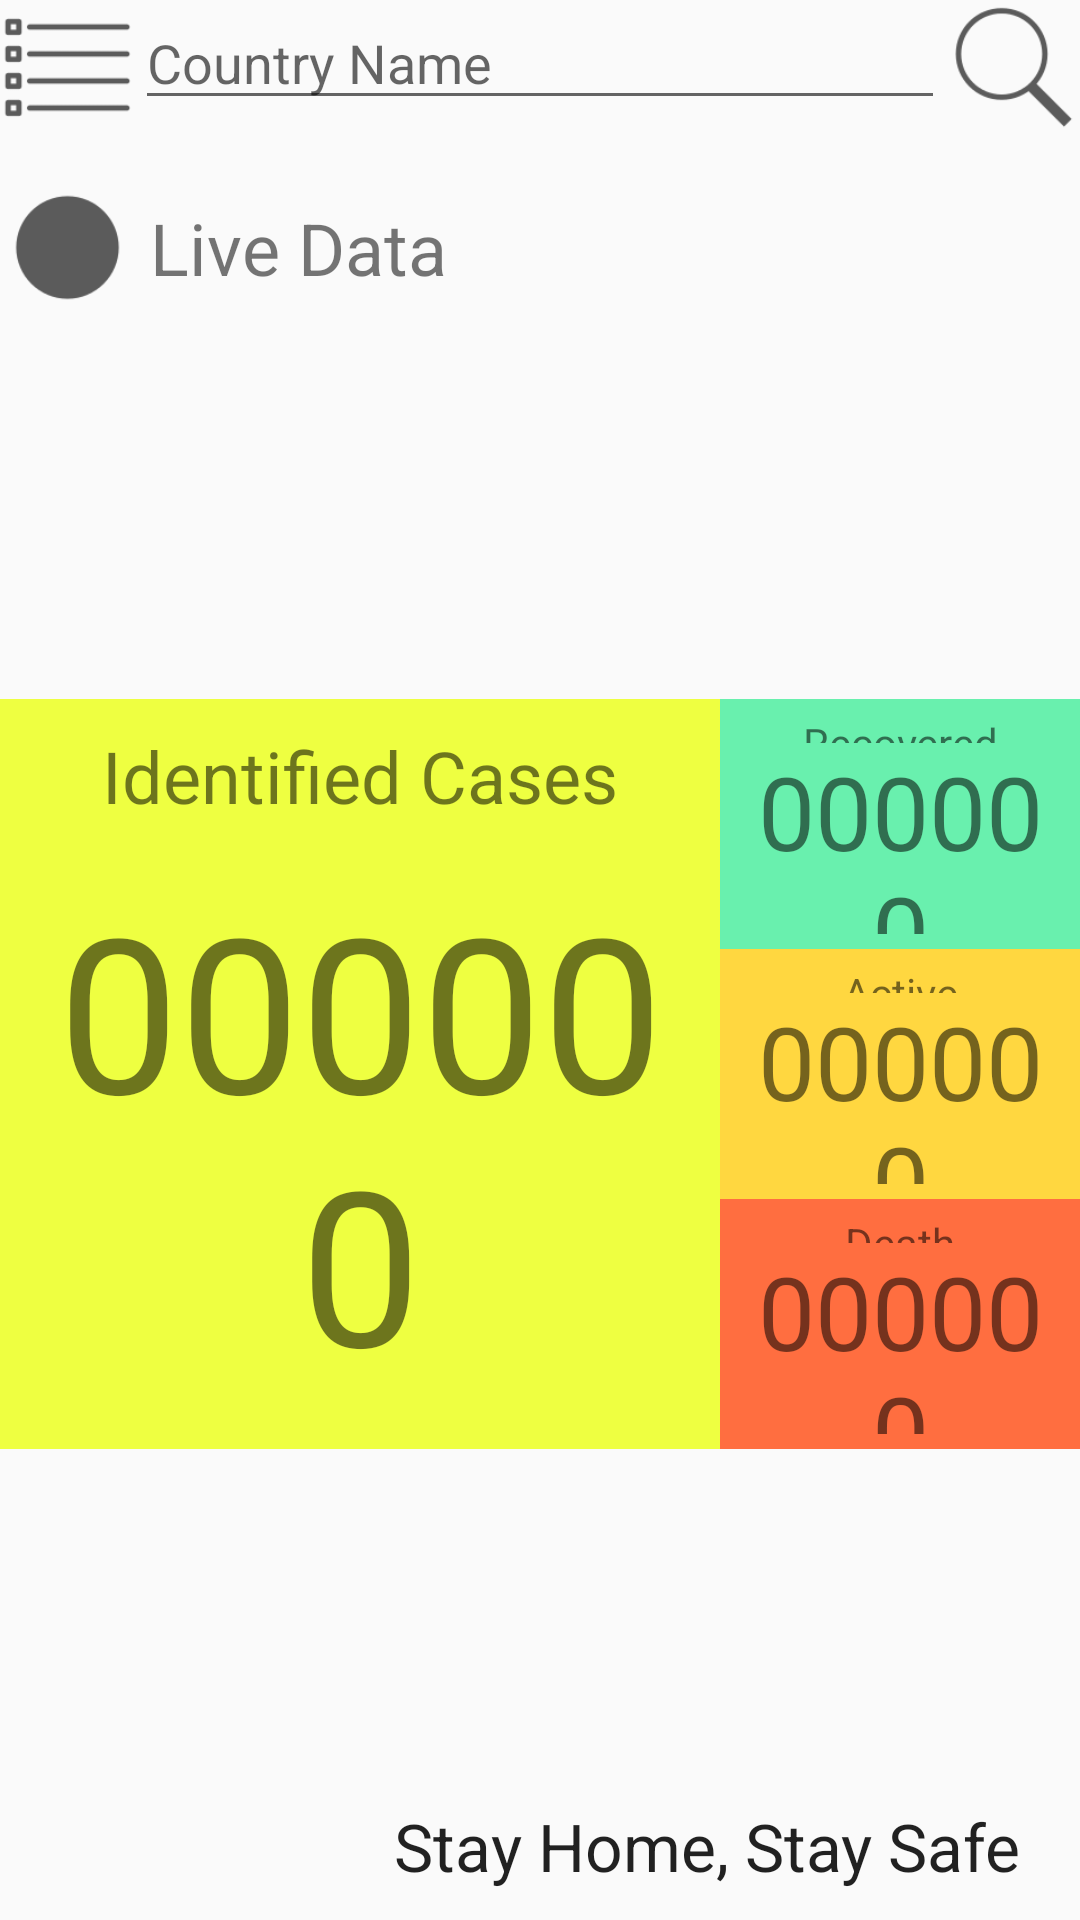

Where icons sit on this 1080×1920 app screen, as (x1, y1, x2, y2):
list: (5, 18, 130, 116)
search: (955, 8, 1072, 127)
